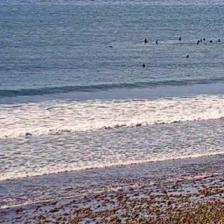surfer: (144, 38, 149, 43), (178, 36, 182, 40), (142, 63, 145, 67), (155, 40, 158, 44), (196, 40, 200, 43), (209, 40, 213, 43), (186, 54, 189, 57), (109, 46, 112, 48), (200, 39, 202, 42), (218, 39, 220, 42), (196, 43, 198, 45), (203, 38, 205, 40)
